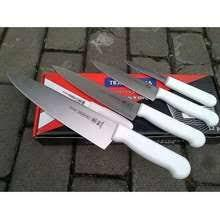knives: (1, 41, 206, 187)
